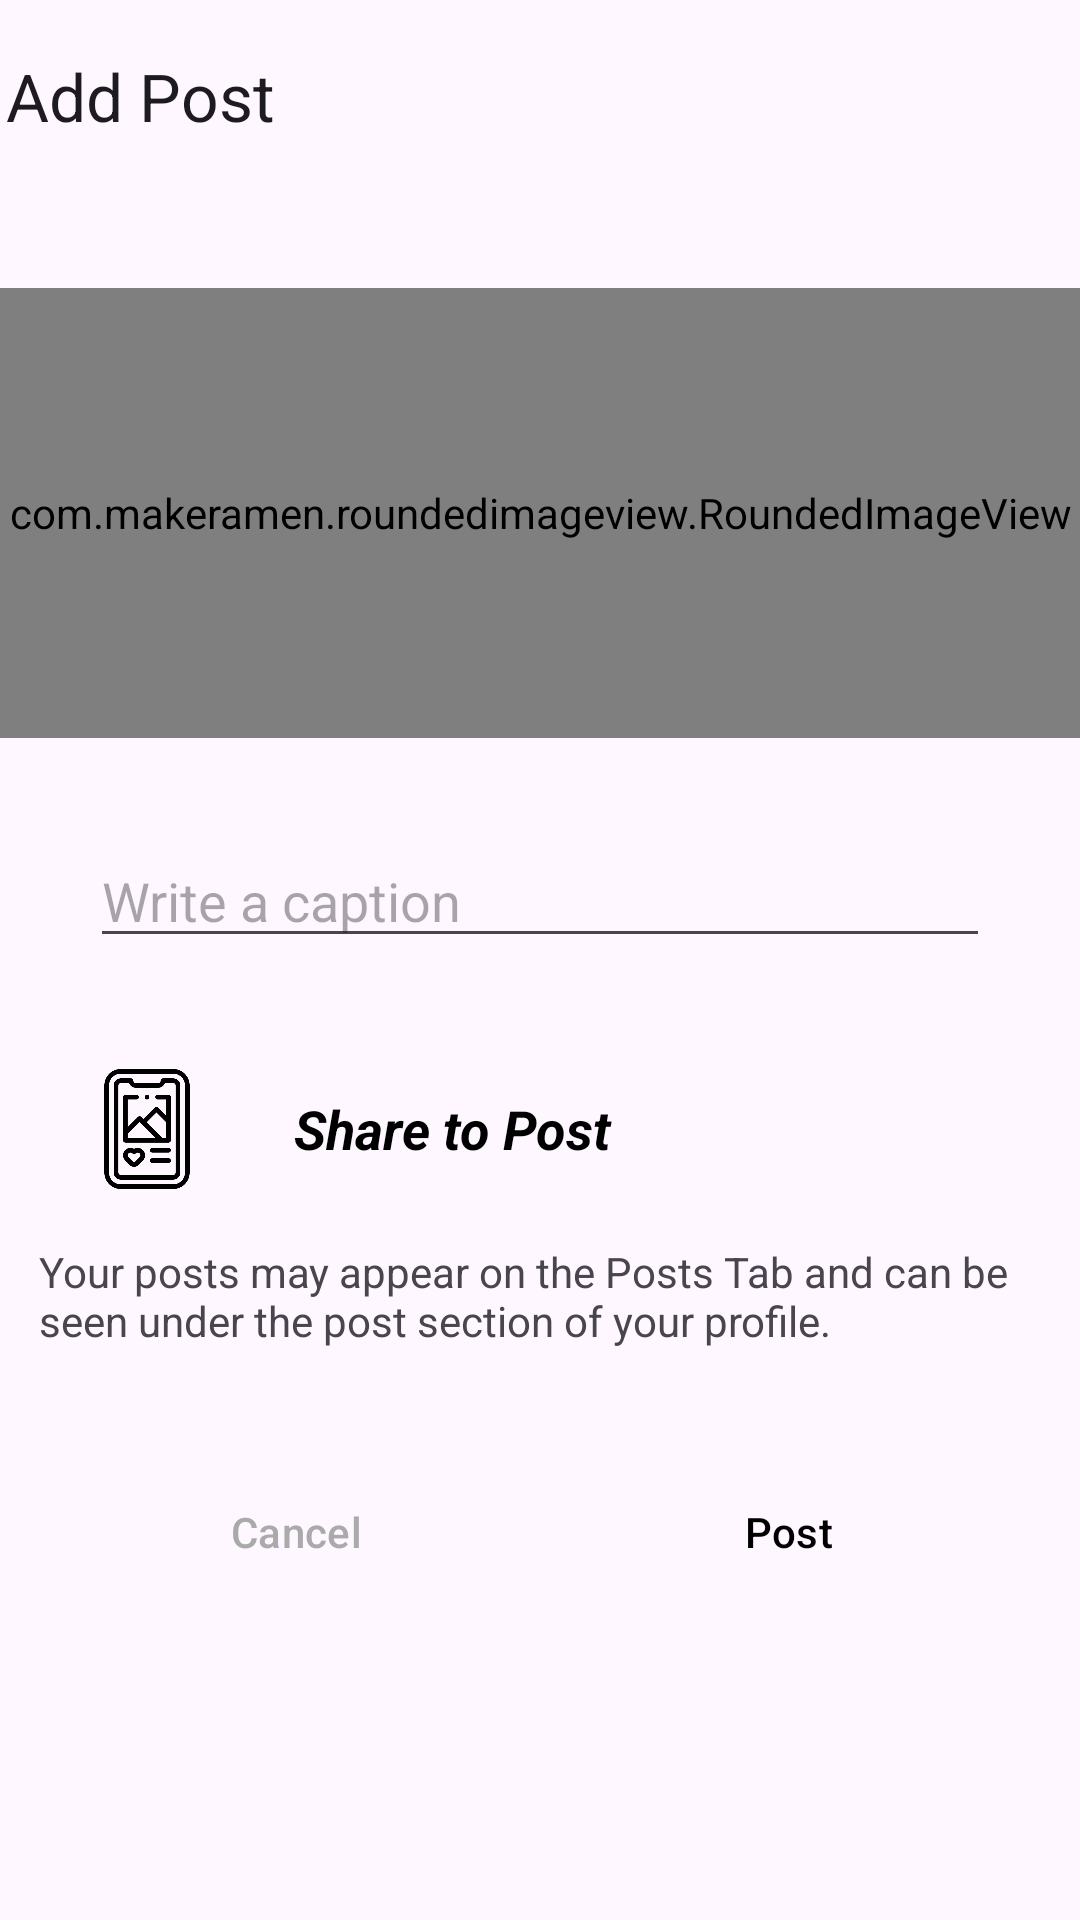

Named icons in this screenshot (1080×1920) and their centers, point (x, y):
instagrampost: point (147, 1129)
